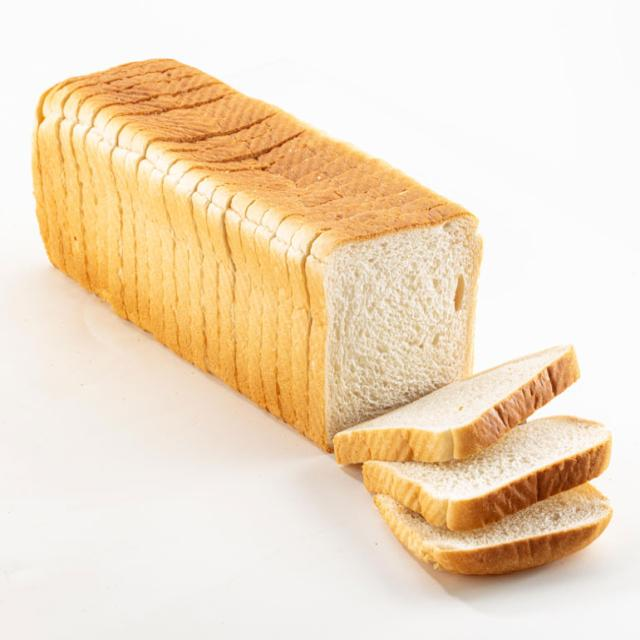Bread: (324, 216, 482, 442), (334, 345, 580, 464), (364, 416, 611, 530), (374, 483, 611, 573)
